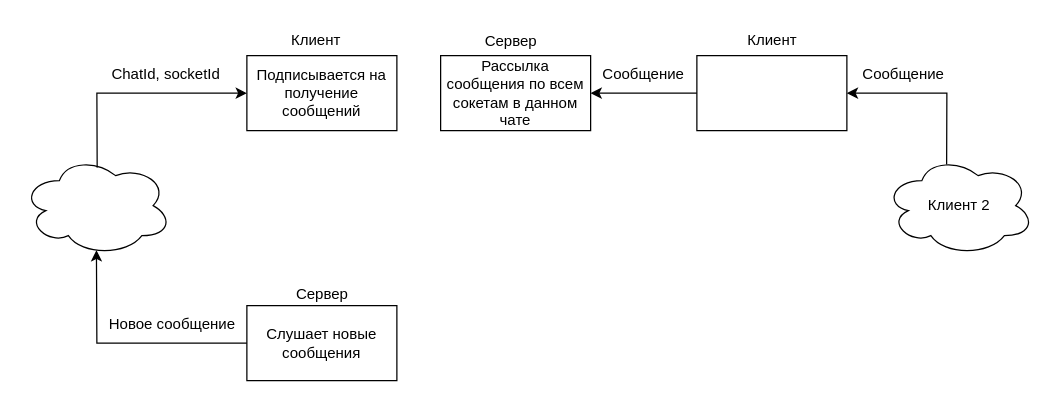
This 1056x403 diagram has some shape labels left out. The centre of each missing label's shape, as x and y in pixels:
Клиент 1: [96,205]
Отправляет новое сообщение: [771,92]
